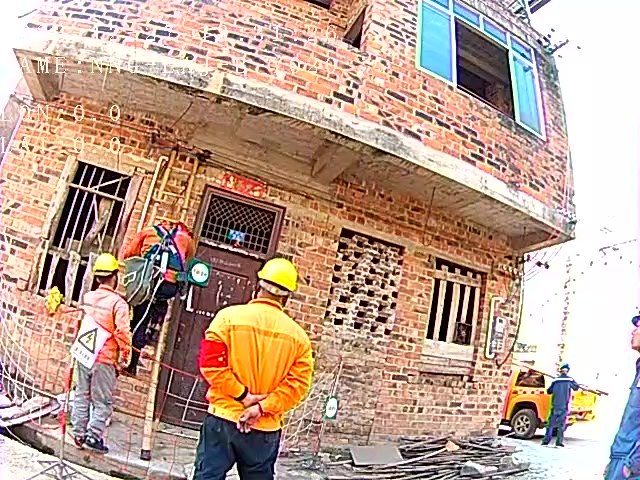badge: (200, 338, 229, 369)
downcloth: (190, 430, 281, 480), (132, 285, 179, 355), (77, 368, 118, 443)
downsuit: (190, 429, 280, 480), (548, 411, 566, 444)
halt: (255, 257, 298, 305), (90, 252, 124, 291), (560, 363, 572, 376)
hand: (235, 391, 266, 433), (117, 350, 130, 371)
intosign: (322, 395, 341, 423)
person: (188, 255, 319, 480), (68, 249, 132, 454), (123, 213, 200, 360), (600, 304, 640, 480), (545, 361, 582, 447)
safebelt: (144, 220, 190, 272)
upsuit: (72, 287, 130, 364), (608, 360, 640, 461), (549, 376, 579, 410)
worksign: (187, 255, 211, 288)
yupsuit: (198, 297, 313, 429), (123, 221, 195, 281)
